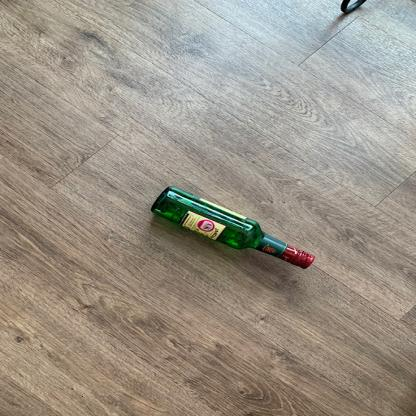trash: (148, 184, 320, 270)
